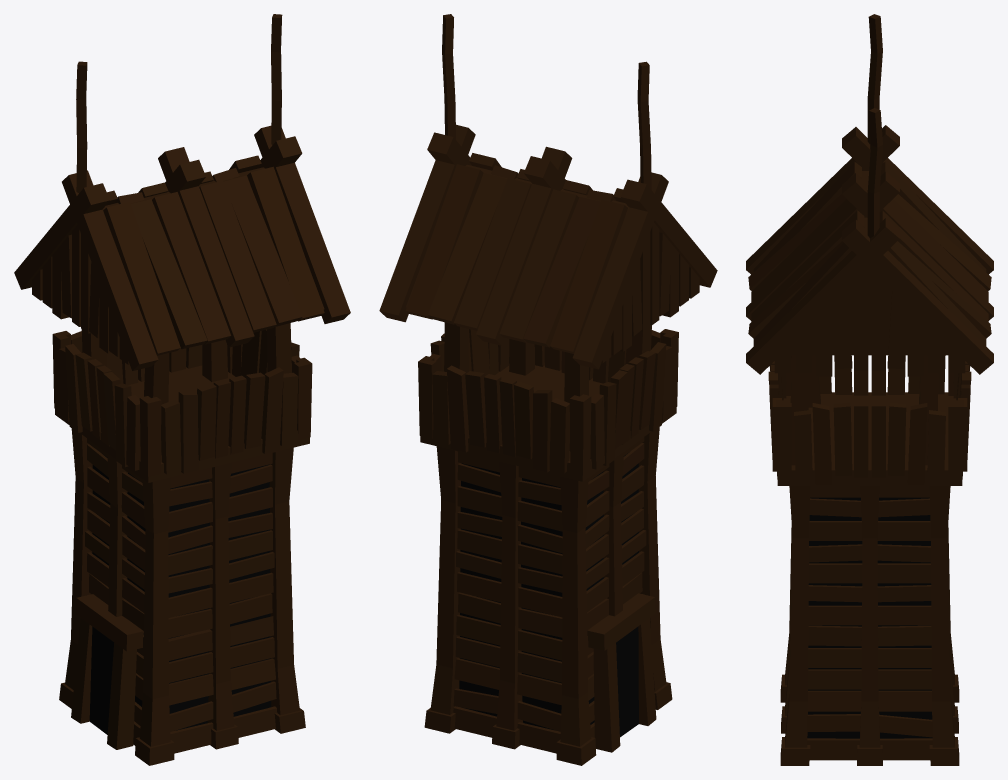
The model's file is WoodTowerA.fbx.
3 views of the same model, side by side, from view 1: azimuth 30°, elevation 25°; view 2: azimuth 150°, elevation 25°; view 3: azimuth 270°, elevation 25° (orthographic).
Visible parts, largest first — view 1: WoodTowerA; view 2: WoodTowerA; view 3: WoodTowerA.
Boxes of the visible parts, x1=… form: WoodTowerA: x1=14, y1=14, x2=350, y2=765; WoodTowerA: x1=379, y1=14, x2=717, y2=765; WoodTowerA: x1=746, y1=14, x2=993, y2=765.
Bounding box in the file's own units: 240 × 730 × 247.
